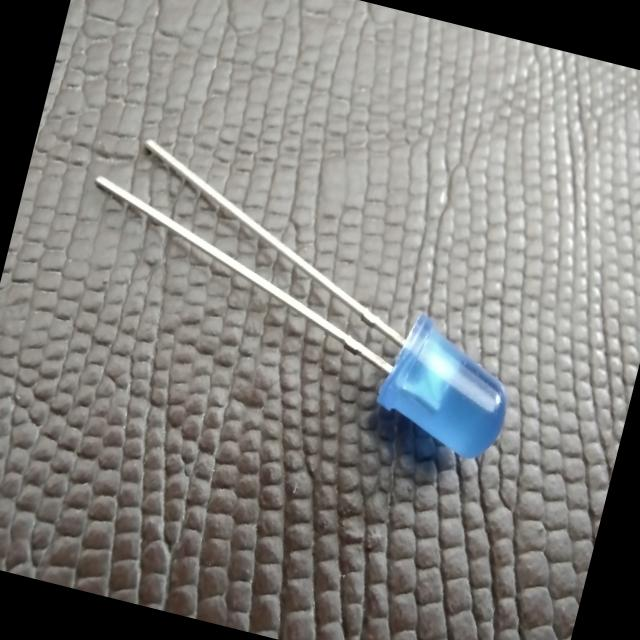blue_led: (366, 305, 525, 466)
